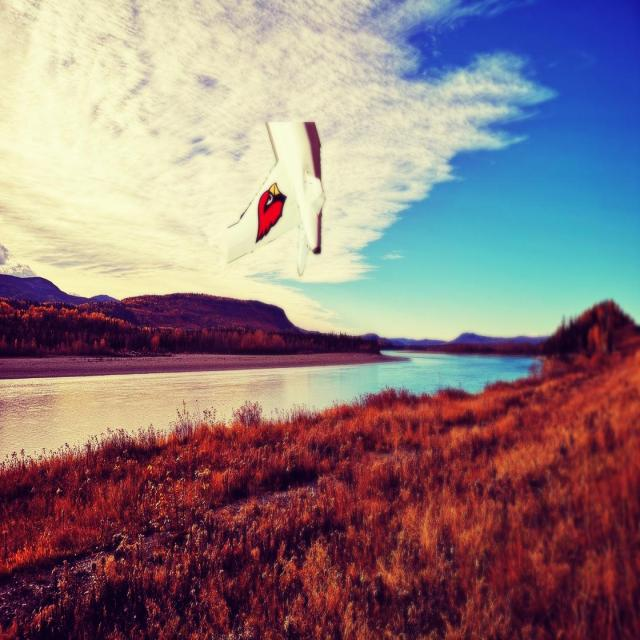airplane: (226, 119, 326, 276)
